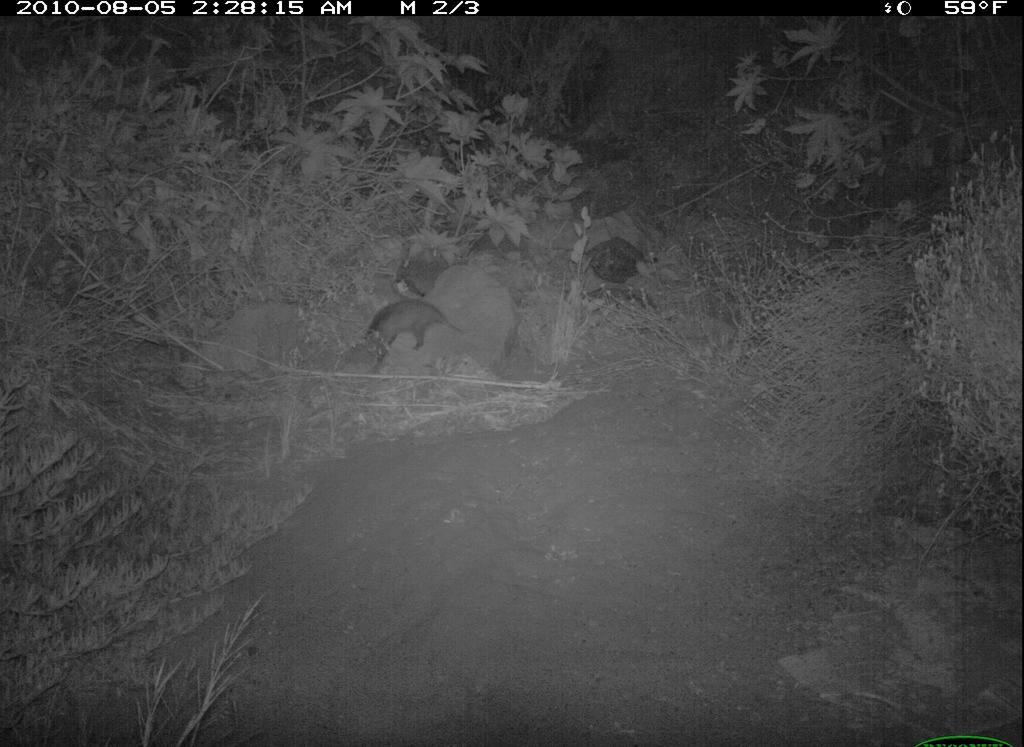opossum: (349, 294, 479, 374)
